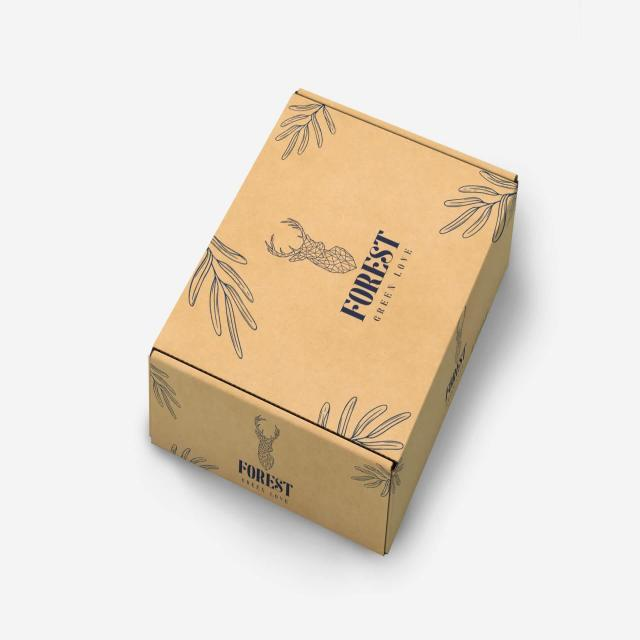box: (146, 89, 517, 553)
